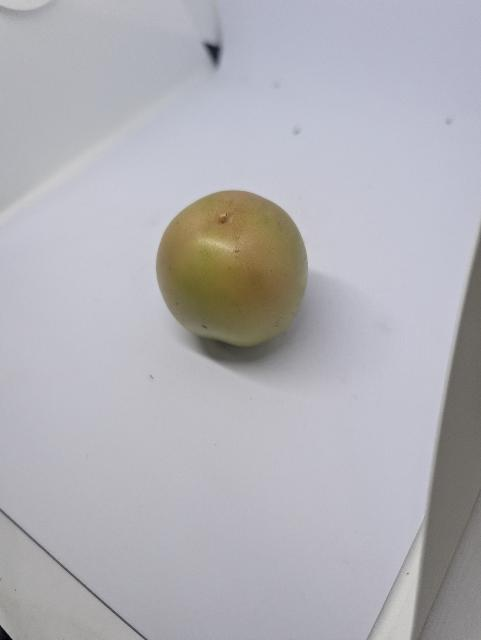breaker: (153, 188, 315, 351)
